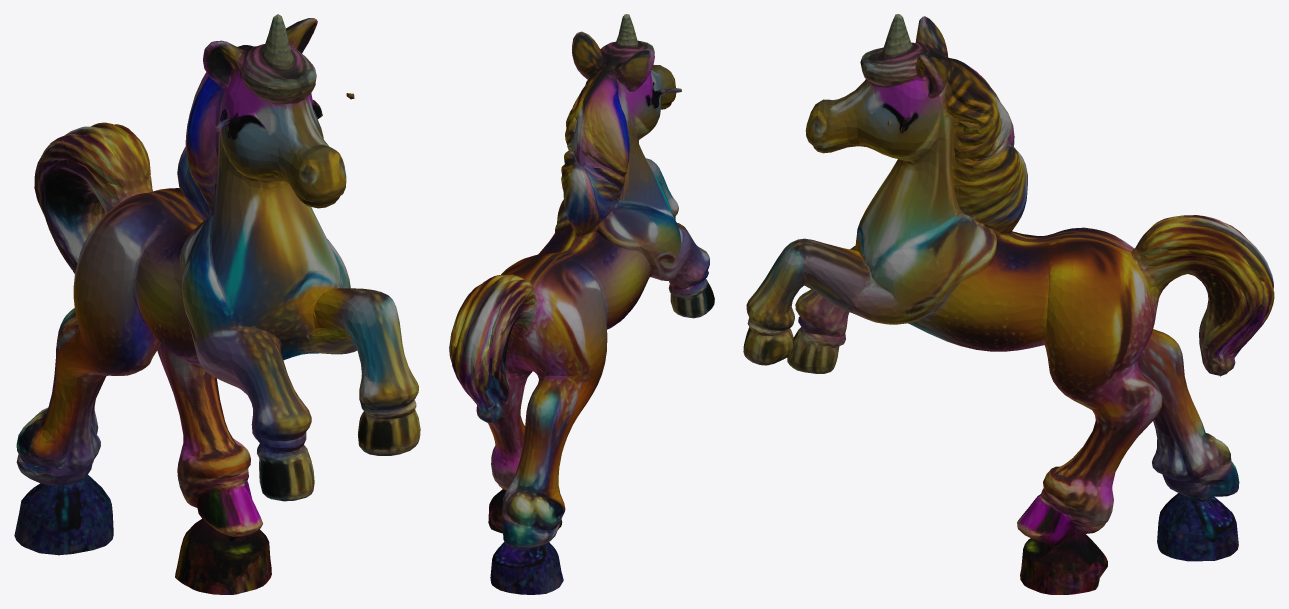
The model's file is 78e81b49-66c4-454b-b301-a6f915acc361.glb.
3 views of the same model, side by side, from view 1: azimuth 30°, elevation 25°; view 2: azimuth 150°, elevation 25°; view 3: azimuth 270°, elevation 25° (orthographic). The views are drawn at different scales.
Visible parts, largest first — view 1: world; view 2: world; view 3: world.
Boxes of the visible parts, x1,y1,x2,y2 form: world: (14,14,420,594); world: (449,14,714,594); world: (743,14,1274,594).
Bounding box in the file's own units: 0.2728 × 1 × 0.881.
Materials: 1 (1 with a texture image).
